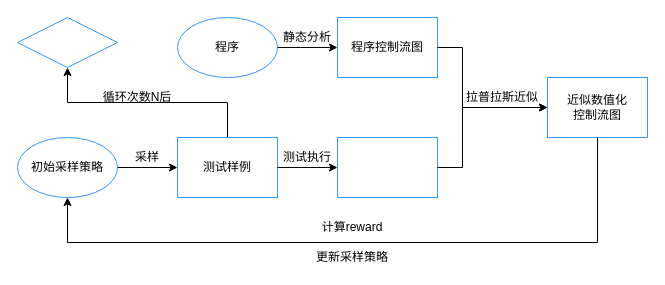
Some shapes in this 665 by 285 pixel diagram are drawn without their labels. Each missing label, with the centre of its shape:
"测试集" goes at (x=67, y=42).
"程序运行信息" goes at (x=387, y=167).
